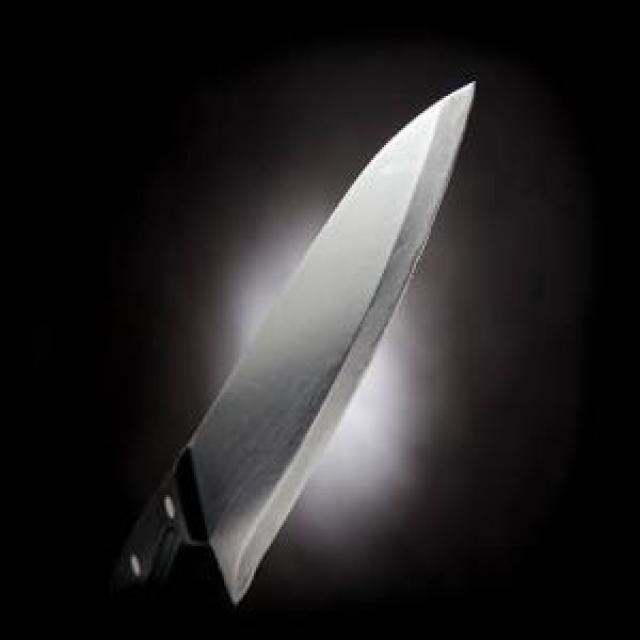knife: (83, 75, 481, 638)
